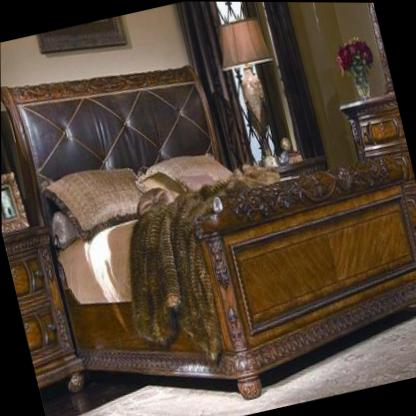Bed: (0, 1, 416, 416)
